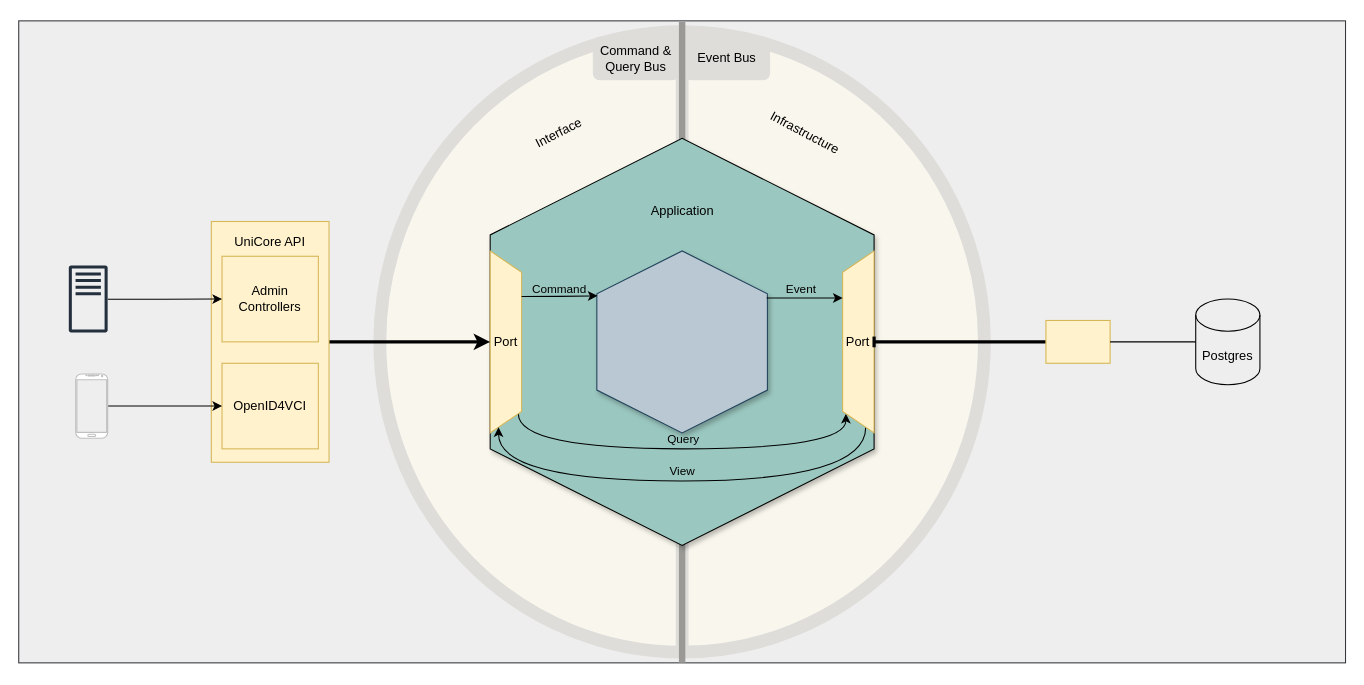
Some shapes in this 1364 by 685 pixel diagram are drawn without their labels. The shapes that lost their labels are listed below. From the top down, each one's centre as x and y in pixels, then its label:
the point at 682,343: Core Issuance Agent
the point at 1077,341: Event Store
